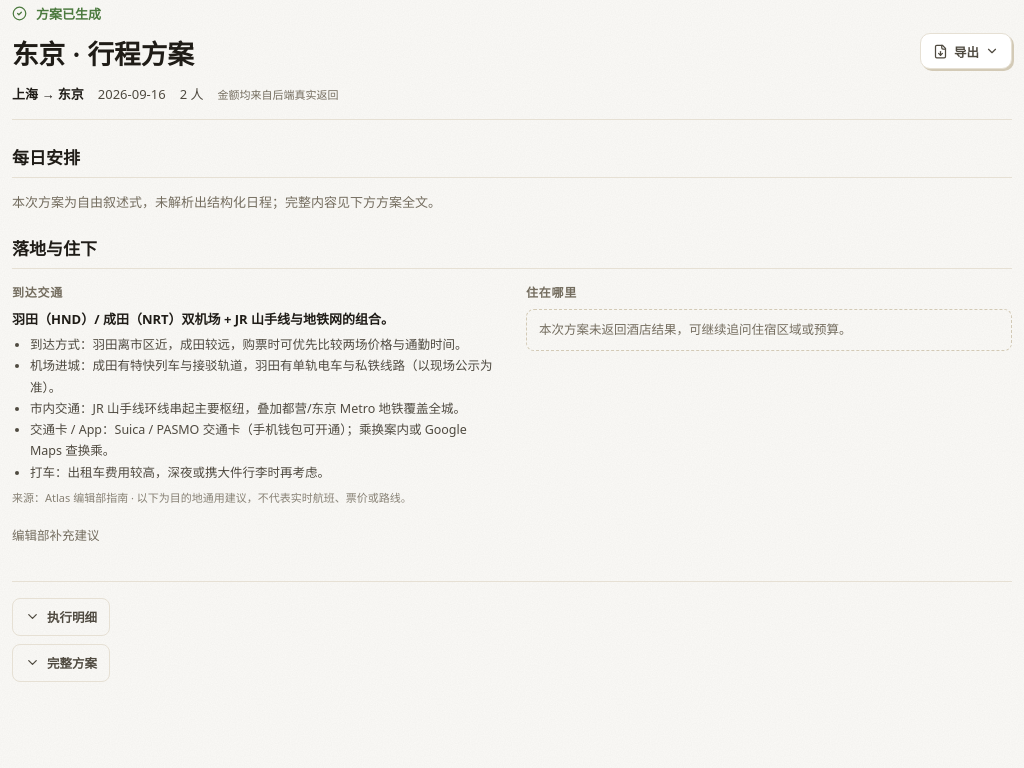
it: ItineraryWorkspace reading mode (R1 结构) › shows a recoverable message when clipboard copy fails
导出动作收进菜单：先打开菜单再复制
Step 1. Click the button "导出" → point(966, 51), box [920,33,1012,69]
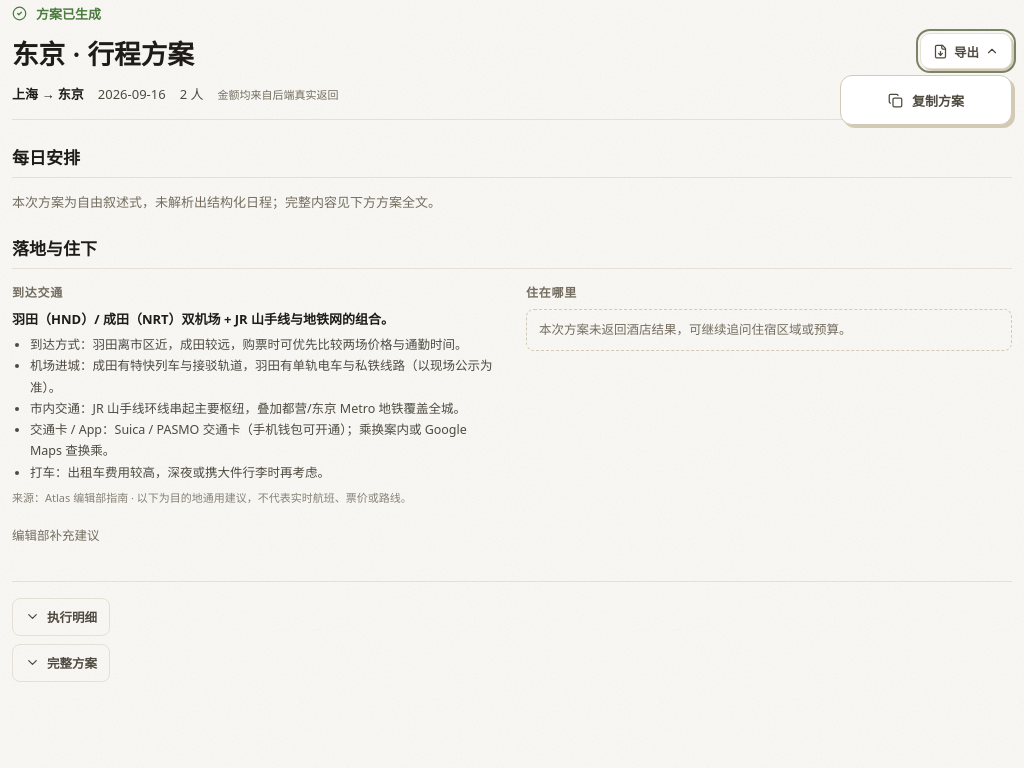
Step 2. Click the menu item "复制方案" → point(926, 100), box [846,81,1006,119]
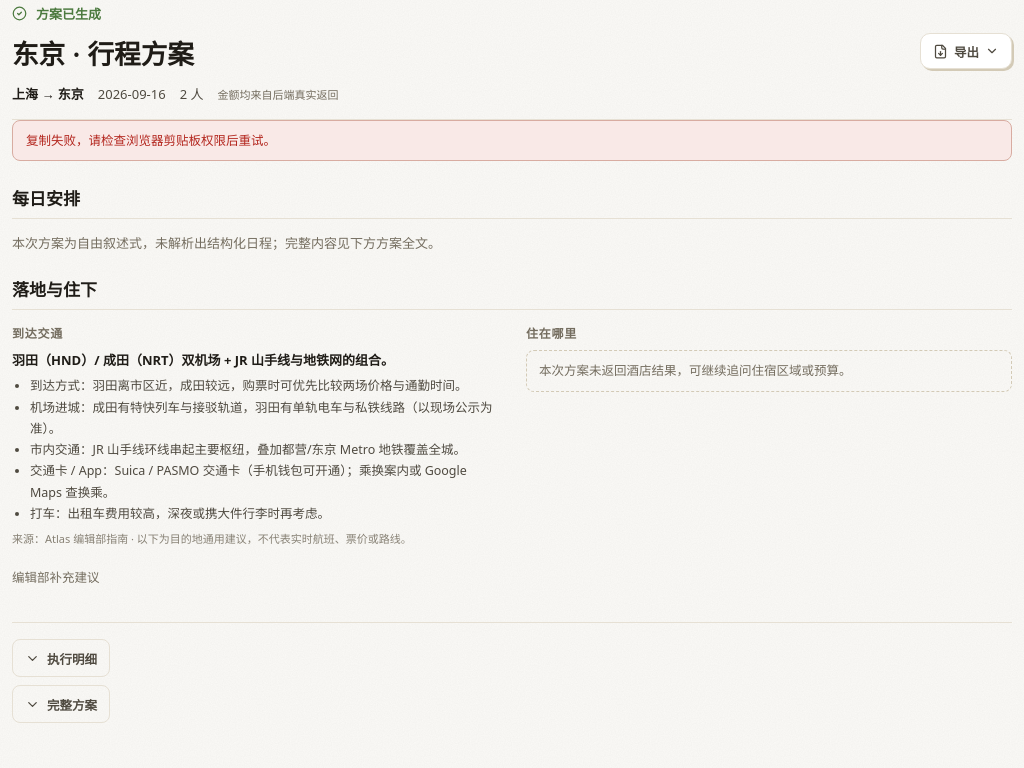
Result: the message shows "复制失败" at [26,132,276,149]
